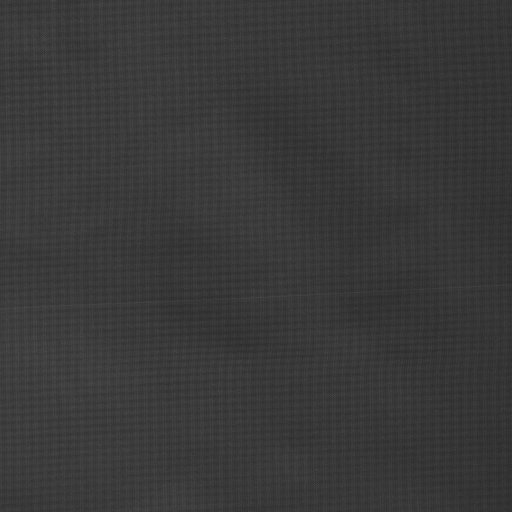defect: (1, 276, 512, 314)
